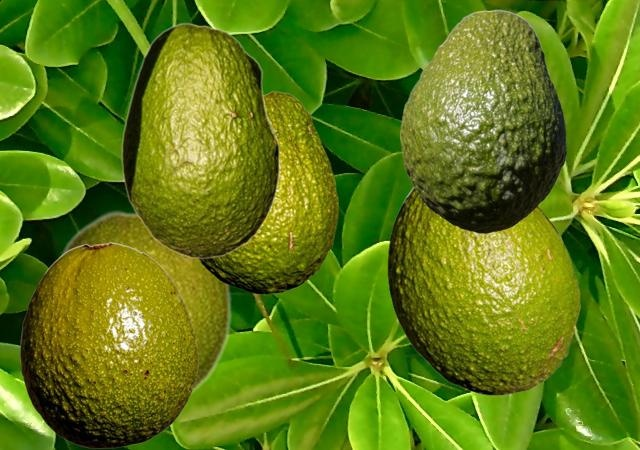avocado: (387, 187, 579, 394), (121, 22, 279, 258), (400, 9, 565, 232), (20, 242, 197, 447), (55, 206, 232, 400), (198, 90, 337, 293)
